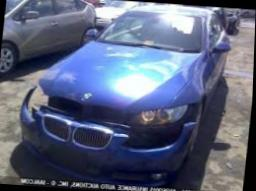Bumper: (22, 86, 200, 185)
